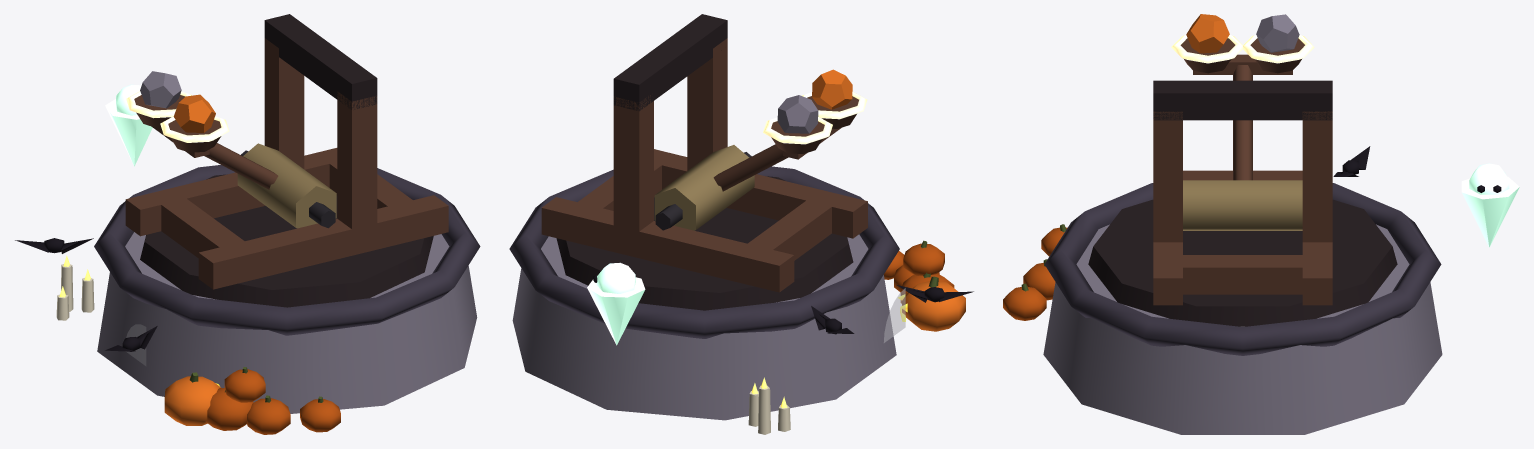
File: tower_catapult_barrage.glb
3 renders of one model, left to right at view 1: azimuth 30°, elevation 25°; view 2: azimuth 150°, elevation 25°; view 3: azimuth 270°, elevation 25°, orthographic. The views are drawn at different scales.
Parts seen in each view (by area): view 1: base, base_rim, turntable, rail_l, upright_l, stop_bar, rail_r, torsion_rope, upright_r, cross_w, deco_hw_jack_body, cross_e (+15 smaller); view 2: base, base_rim, turntable, rail_r, upright_r, stop_bar, rail_l, torsion_rope, upright_l, cross_w, deco_hw_jack_body, deco_hw_ghost_sheet (+13 smaller); view 3: base, turntable, base_rim, stop_bar, torsion_rope, cross_e, upright_r, upright_l, rail_r, rail_l, deco_hw_ghost_sheet, arm_beam (+11 smaller).
Part boxes in pixels (box(x1,y1,x2,y2)): base: box(97, 232, 477, 413); base_rim: box(94, 165, 480, 335); turntable: box(140, 174, 433, 307); rail_l: box(198, 195, 448, 289); upright_l: box(337, 91, 377, 233); stop_bar: box(264, 14, 377, 109); rail_r: box(125, 148, 337, 236); torsion_rope: box(237, 143, 336, 228); upright_r: box(264, 38, 304, 168); cross_w: box(156, 190, 259, 284); deco_hw_jack_body: box(164, 376, 220, 425); cross_e: box(315, 151, 427, 242); base: box(512, 234, 896, 420); base_rim: box(509, 166, 899, 338); turntable: box(556, 176, 853, 310); rail_r: box(541, 197, 794, 292); upright_r: box(613, 95, 653, 235); stop_bar: box(613, 14, 727, 111); rail_l: box(654, 149, 867, 238); torsion_rope: box(654, 145, 754, 230); upright_l: box(687, 38, 727, 170); cross_w: box(732, 190, 845, 286); deco_hw_jack_body: box(902, 281, 965, 331); deco_hw_ghost_sheet: box(587, 277, 645, 345); base: box(1043, 224, 1442, 434); turntable: box(1088, 199, 1397, 326); base_rim: box(1044, 183, 1441, 355); stop_bar: box(1153, 80, 1332, 120); torsion_rope: box(1183, 180, 1302, 230); cross_e: box(1183, 255, 1302, 294); upright_r: box(1302, 111, 1332, 242); upright_l: box(1153, 111, 1182, 242); rail_r: box(1302, 242, 1332, 305); rail_l: box(1153, 242, 1182, 305); deco_hw_ghost_sheet: box(1461, 176, 1519, 247); arm_beam: box(1233, 65, 1252, 180).
Size of the model in its own units: 0.4664 by 0.315 by 0.5179.
